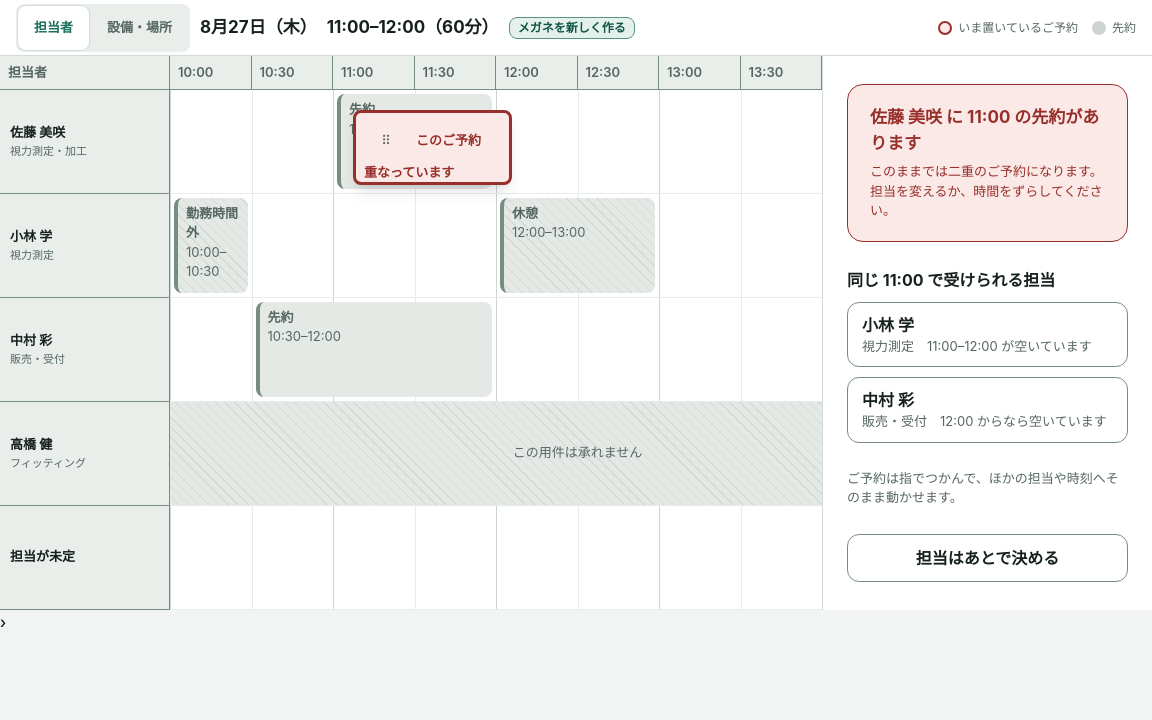
Test: 軸の切り替え › 「設備・場所」に切り替えると縦軸が設備になり「同じ 11:00 で使える設備」が出る
Step 1. Click the button "設備・場所" → click(140, 28), box top-left (91, 6), bottom-right (188, 50)
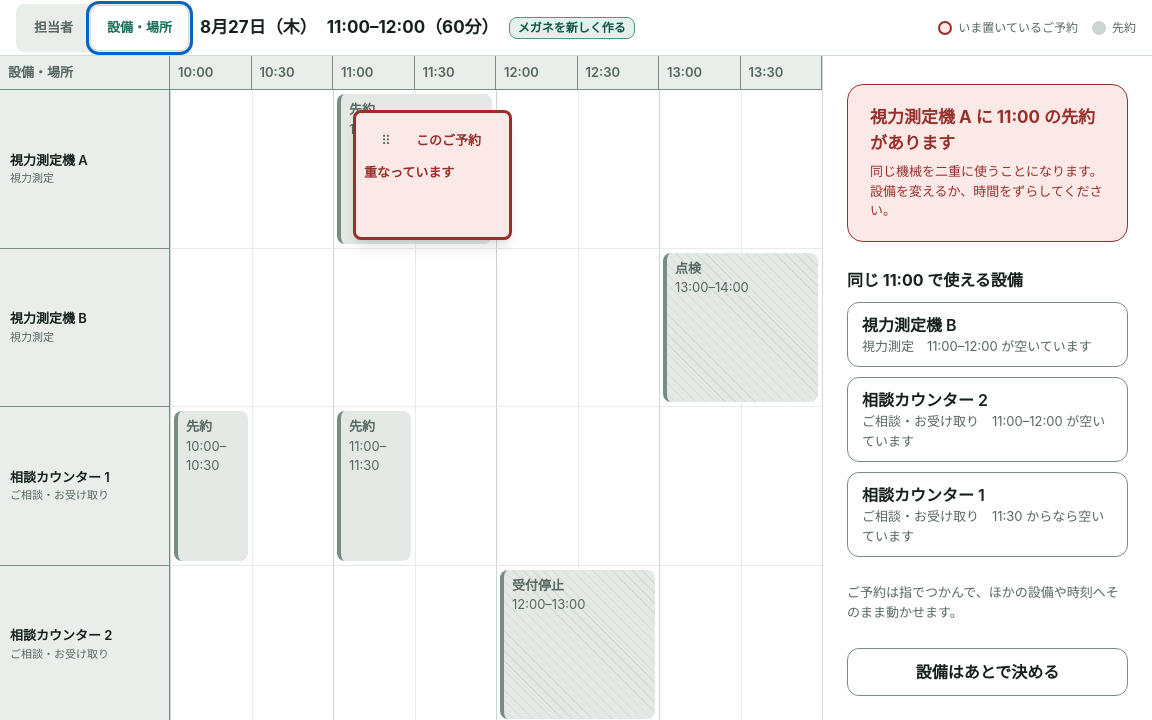
Check: the column heading "設備・場所" is shown, box top-left (0, 56), bottom-right (170, 90)
Check: the heading "同じ 11:00 で使える設備" is shown, box top-left (847, 270), bottom-right (1023, 290)
Check: the text "視力測定機 A に 11:00 の先約があります" is shown, box top-left (870, 107), bottom-right (1095, 152)
